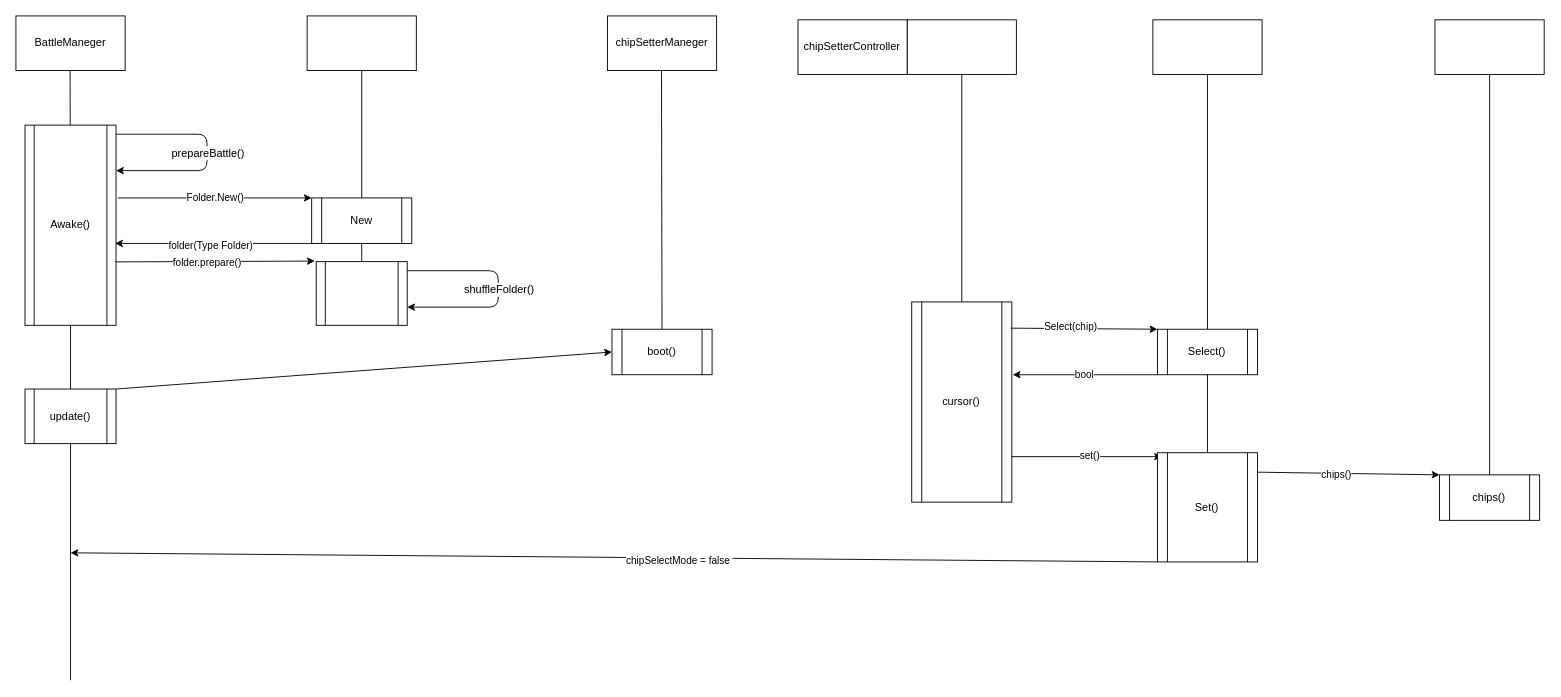
The diagram is 1561 pixels wide and 697 high, and some of its shapes have lost their labels. The shapes that lost their labels are listed below. From the top down, each one's centre as x and y in pixels, then its label:
the point at 361,43: Folder
the point at 961,46: chipSetterUI
the point at 1207,46: chipSetter
the point at 1489,46: charcter
the point at 361,293: Prepare
